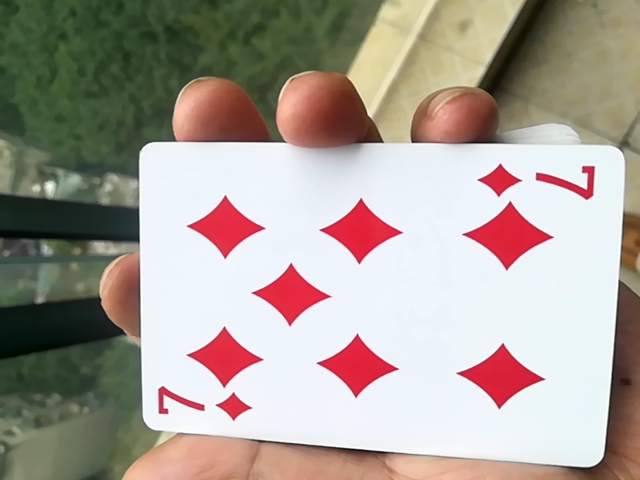fk 7: (123, 140, 622, 465)
